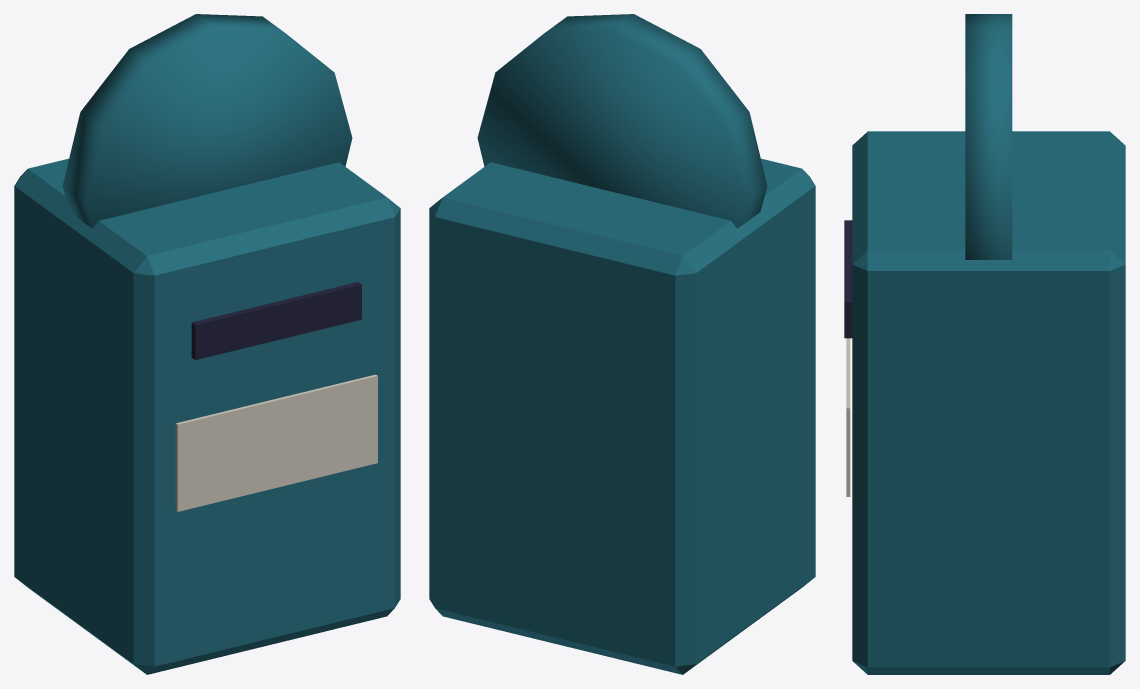
The model's file is return_box.glb.
The picture shows the model from 3 angles, left to right: view 1: azimuth 30°, elevation 25°; view 2: azimuth 150°, elevation 25°; view 3: azimuth 270°, elevation 25°; orthographic projection.
Visible parts, largest first — view 1: return_box; view 2: return_box; view 3: return_box.
Part boxes in pixels (x1,y1,x2,y2): return_box: (14, 14, 400, 674); return_box: (429, 14, 815, 674); return_box: (844, 14, 1125, 674).
Bounding box in the file's own units: 0.7999 × 1.66 × 0.72.
